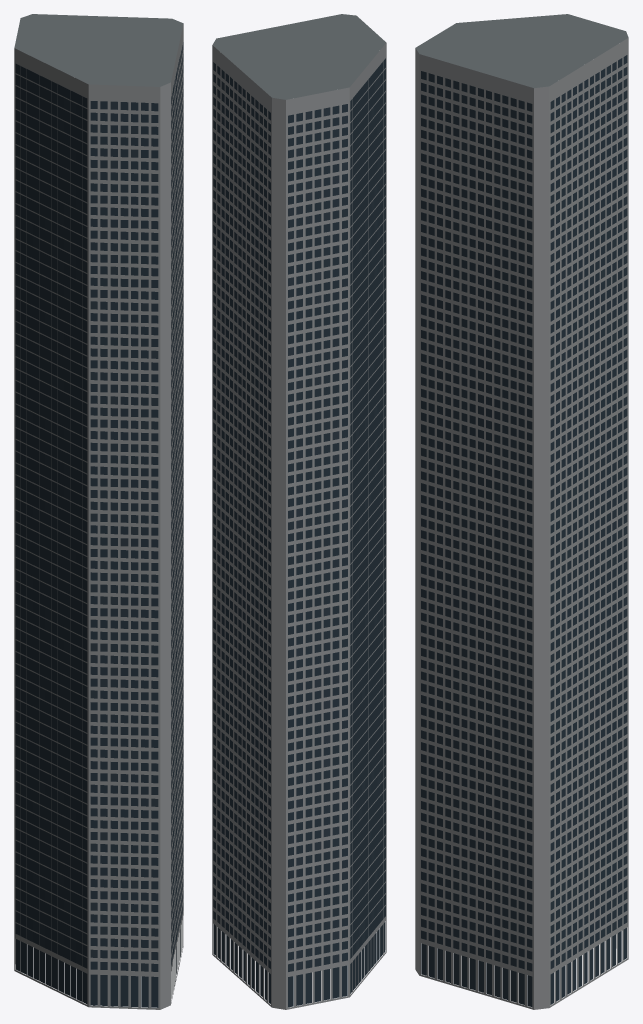
The model's file is jpmorgan-chase-tower-houston-near.glb.
The picture shows the model from 3 angles, left to right: view 1: azimuth 30°, elevation 25°; view 2: azimuth 150°, elevation 25°; view 3: azimuth 270°, elevation 25°; orthographic projection.
Parts seen in each view (by area): view 1: jpmorgan-chase-tower-houston-0-glass, jpmorgan-chase-tower-houston-0-granite, jpmorgan-chase-tower-houston-0-roof, jpmorgan-chase-tower-houston-0-glow; view 2: jpmorgan-chase-tower-houston-0-granite, jpmorgan-chase-tower-houston-0-glass, jpmorgan-chase-tower-houston-0-glow, jpmorgan-chase-tower-houston-0-roof; view 3: jpmorgan-chase-tower-houston-0-granite, jpmorgan-chase-tower-houston-0-glass, jpmorgan-chase-tower-houston-0-roof, jpmorgan-chase-tower-houston-0-glow.
Boxes of the visible parts, left/top/right/bottom form: jpmorgan-chase-tower-houston-0-glass: left=15, top=42, right=183, bottom=1007; jpmorgan-chase-tower-houston-0-granite: left=14, top=24, right=183, bottom=1009; jpmorgan-chase-tower-houston-0-roof: left=14, top=14, right=183, bottom=86; jpmorgan-chase-tower-houston-0-glow: left=15, top=45, right=183, bottom=971; jpmorgan-chase-tower-houston-0-granite: left=212, top=43, right=386, bottom=1009; jpmorgan-chase-tower-houston-0-glass: left=213, top=58, right=385, bottom=1007; jpmorgan-chase-tower-houston-0-glow: left=213, top=62, right=385, bottom=970; jpmorgan-chase-tower-houston-0-roof: left=212, top=14, right=386, bottom=99; jpmorgan-chase-tower-houston-0-granite: left=415, top=38, right=628, bottom=1009; jpmorgan-chase-tower-houston-0-glass: left=421, top=55, right=627, bottom=1006; jpmorgan-chase-tower-houston-0-roof: left=415, top=14, right=628, bottom=88; jpmorgan-chase-tower-houston-0-glow: left=421, top=65, right=627, bottom=971.
Size of the model in its own units: 52.75 by 305 by 64.04.
